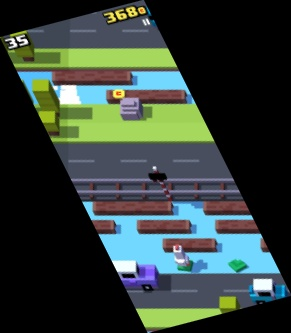car: (98, 261, 158, 292), (247, 278, 291, 304)
coin: (112, 88, 126, 100)
duck: (172, 244, 192, 269)
light off: (147, 165, 176, 201)
lilypad: (228, 258, 248, 273), (176, 257, 193, 272)
log: (51, 70, 134, 86), (107, 90, 187, 103), (92, 201, 172, 214), (202, 201, 261, 215), (162, 238, 218, 252), (135, 220, 191, 233), (215, 220, 268, 233), (77, 220, 116, 234), (261, 238, 286, 252)
rail: (64, 179, 257, 199)
rock: (120, 97, 144, 122)
tree: (33, 79, 61, 115), (9, 28, 36, 62), (37, 110, 61, 137), (218, 295, 241, 321)
water: (76, 201, 284, 273), (11, 70, 198, 105)
